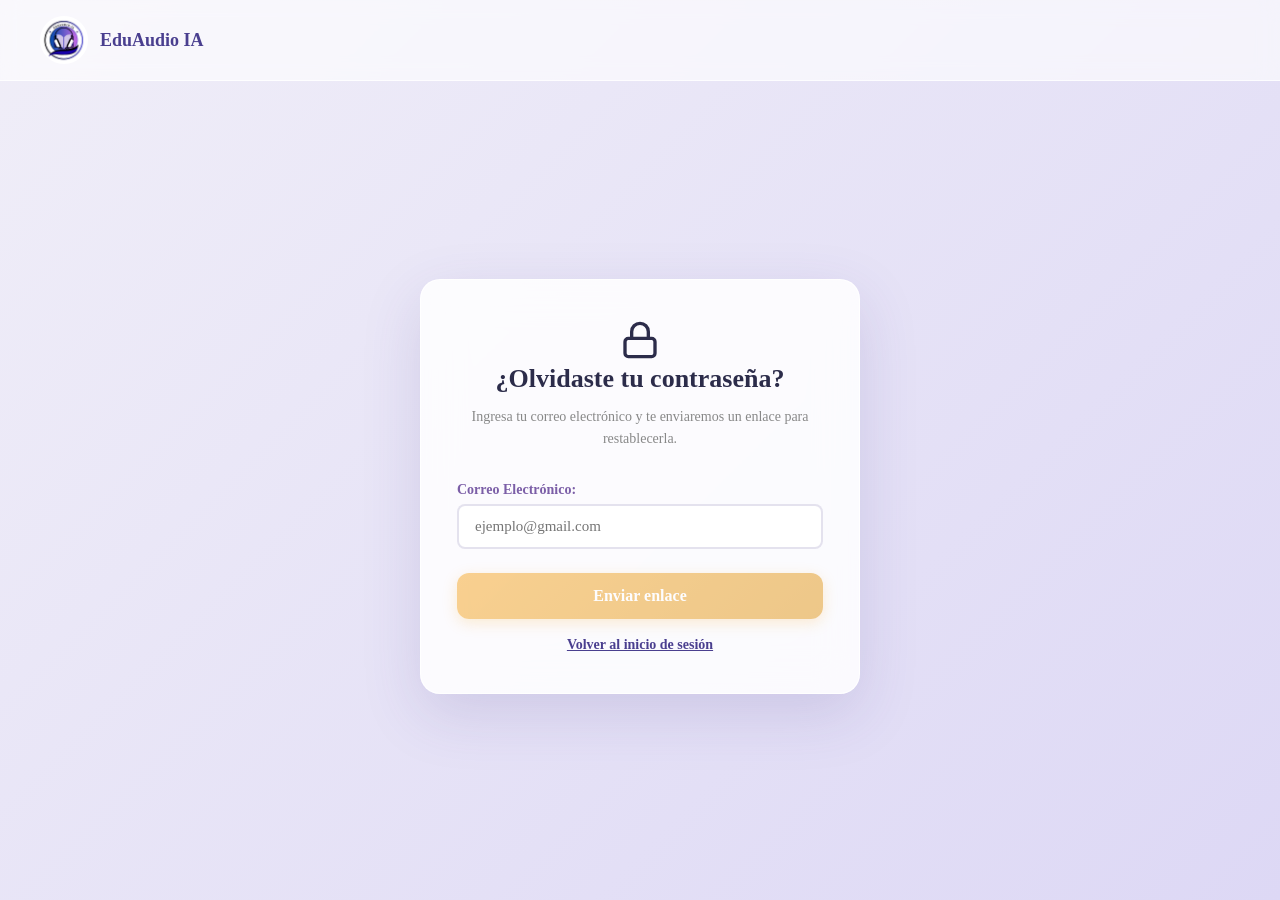
Test: ForgotPassword › muestra error cuando el correo no contiene @
The image size is (1280, 900).
In the field with placeholder "ejemplo@gmail.com": (640, 527) x1=457 y1=504 x2=823 y2=549, type "correoinvalido.com"
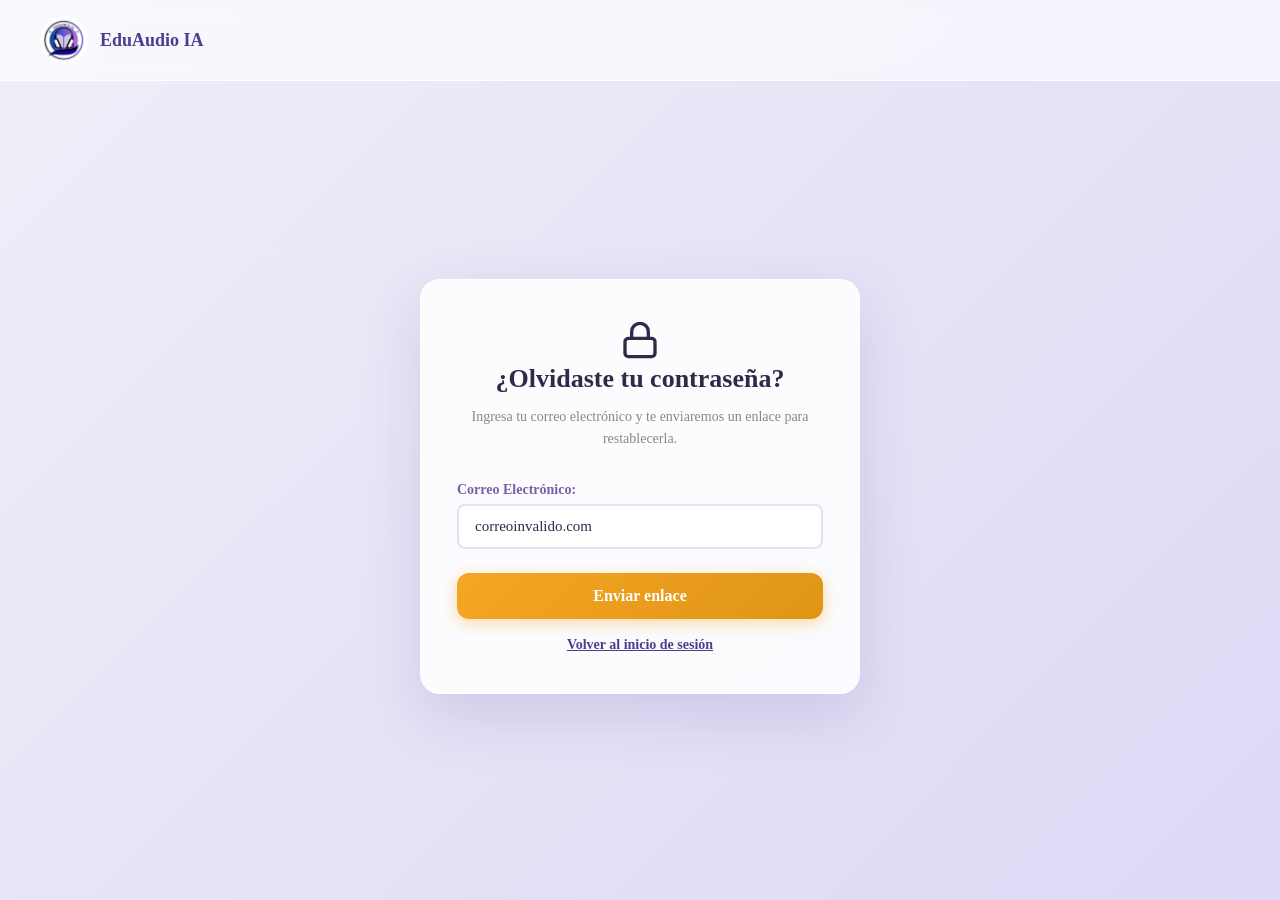
Click the button "Enviar enlace": (640, 596) x1=457 y1=573 x2=823 y2=619
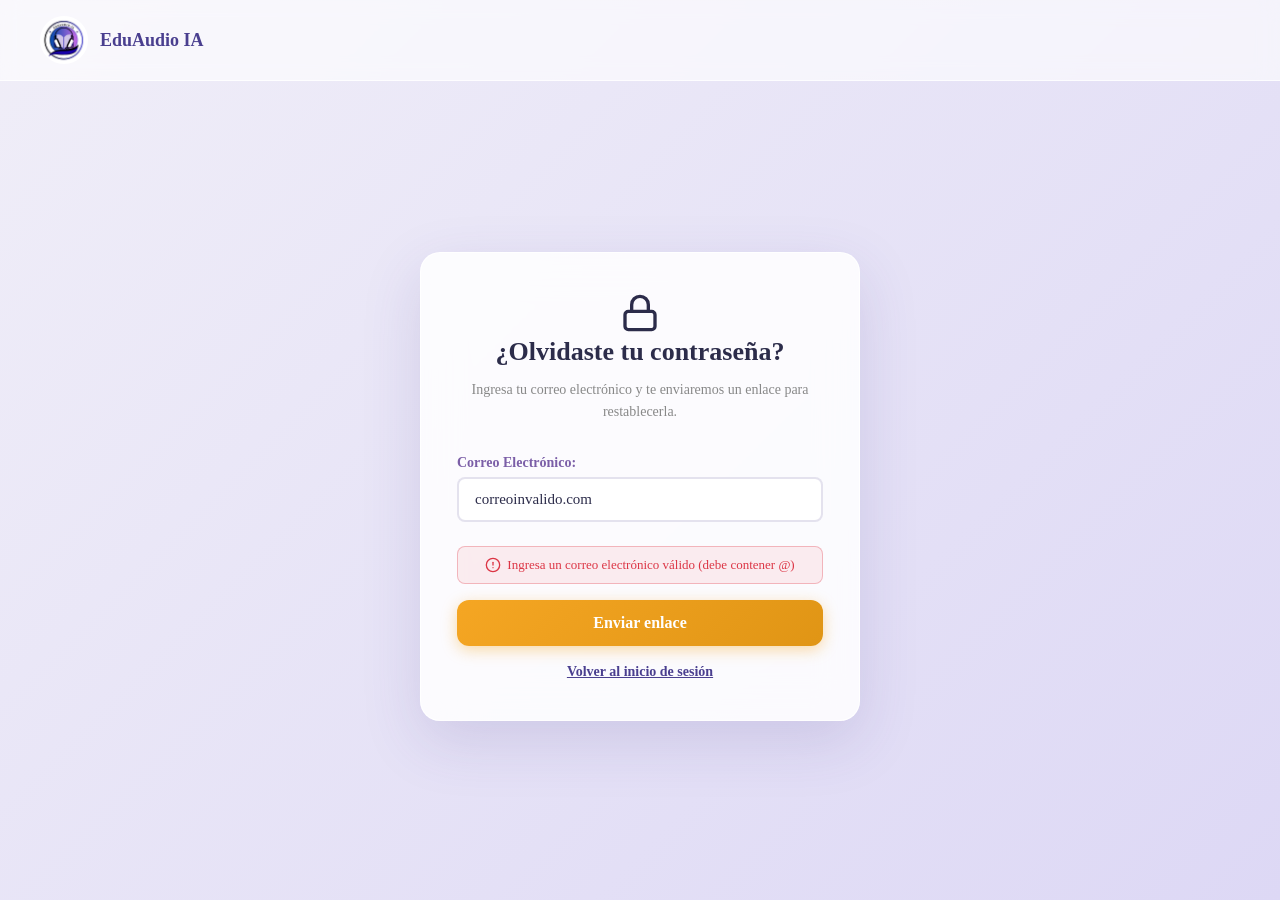
Now the text "Ingresa un correo electrónico válido (debe contener @)" is shown, box x1=507 y1=557 x2=795 y2=573
